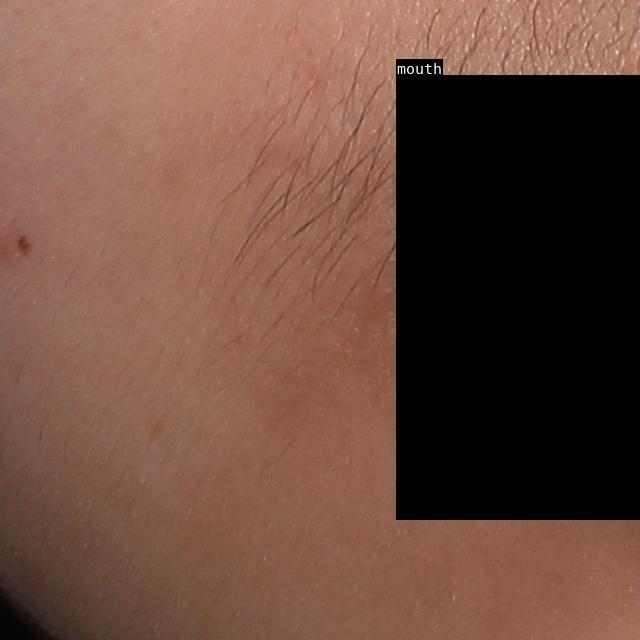nevus: (16, 234, 34, 259)
